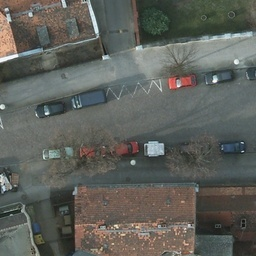car: (178, 138, 209, 159), (42, 143, 76, 162), (109, 137, 138, 158), (205, 65, 235, 85), (77, 142, 109, 160), (170, 71, 198, 90), (36, 101, 65, 118), (218, 139, 245, 156)
van: (71, 89, 107, 107)
